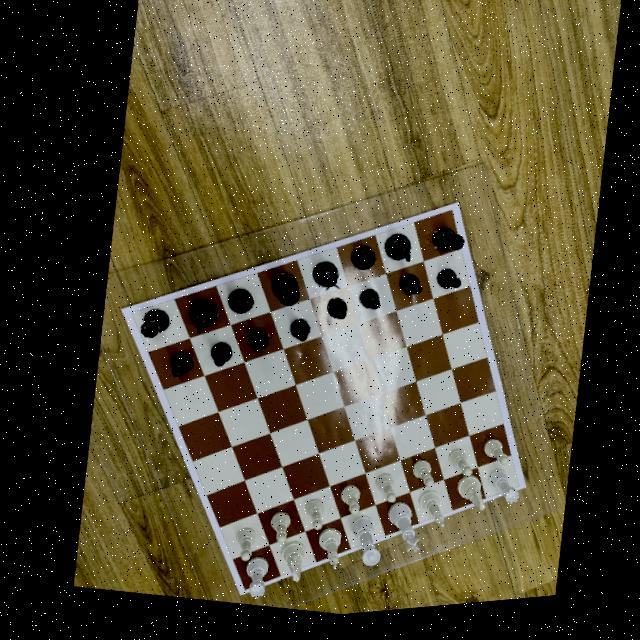chessboard-corner: (222, 591, 236, 603), (510, 489, 522, 502), (447, 204, 458, 217), (111, 304, 121, 315)
